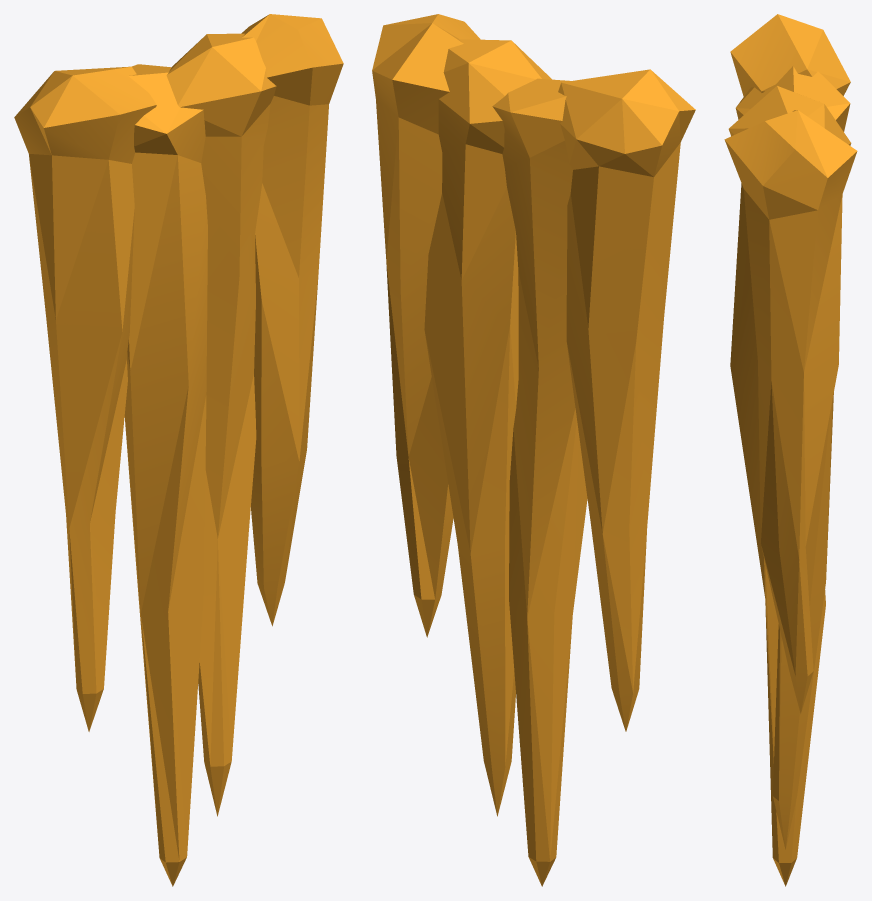
Rendered from SM_Icicle_Group_C.fbx.
3 renders of one model, left to right at view 1: azimuth 30°, elevation 25°; view 2: azimuth 150°, elevation 25°; view 3: azimuth 270°, elevation 25°, orthographic. The views are drawn at different scales.
Visible parts, largest first — view 1: icicle-group-c; view 2: icicle-group-c; view 3: icicle-group-c.
Part boxes in pixels (box(x1,y1,x2,y2)): icicle-group-c: box(14, 14, 343, 886); icicle-group-c: box(372, 14, 695, 886); icicle-group-c: box(724, 14, 857, 886).
Bounding box in the file's own units: 1.88 × 5.05 × 0.7367.
